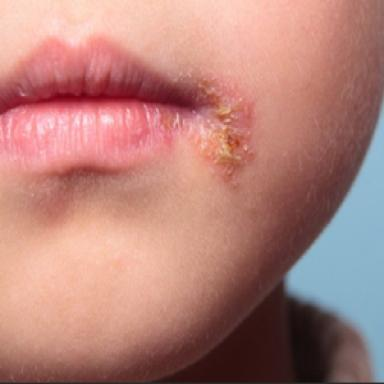Impetigo: (183, 74, 253, 173)
